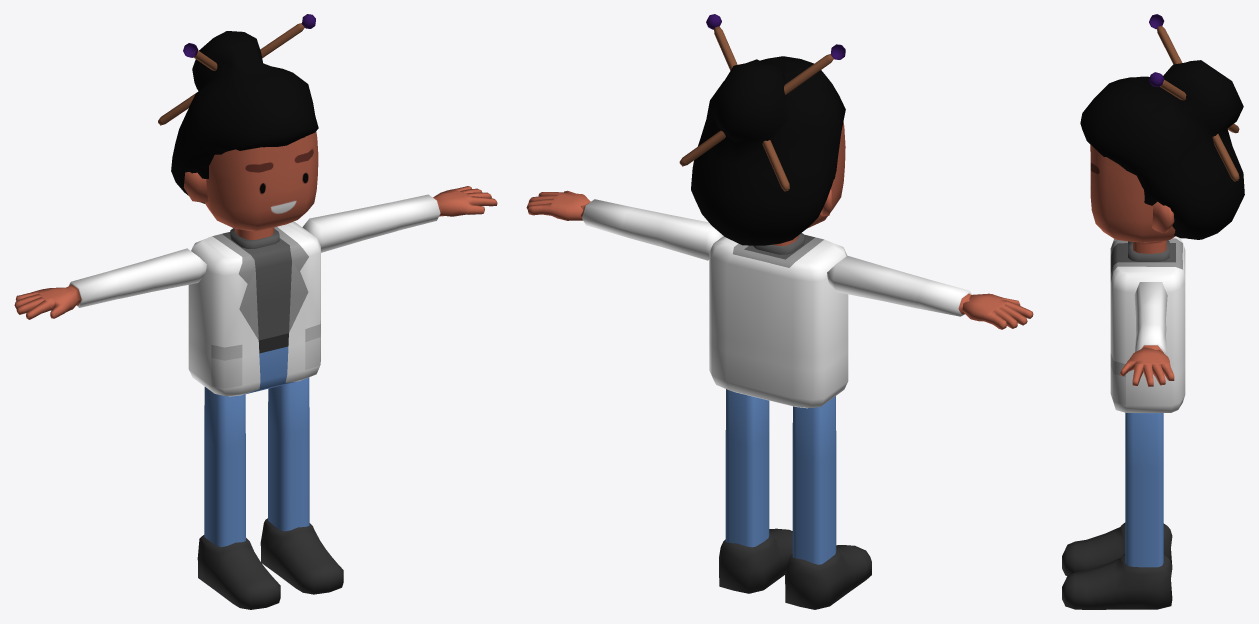
File: NPC_Black01_BlackHair03.gltf
The picture shows the model from 3 angles, left to right: view 1: azimuth 30°, elevation 25°; view 2: azimuth 150°, elevation 25°; view 3: azimuth 270°, elevation 25°; orthographic projection. The views are drawn at different scales.
Visible parts, largest first — view 1: NPC_Corpo_Black1_BlackHair.003; view 2: NPC_Corpo_Black1_BlackHair.003; view 3: NPC_Corpo_Black1_BlackHair.003.
Part boxes in pixels (x1,y1,x2,y2): NPC_Corpo_Black1_BlackHair.003: (14, 14, 497, 609); NPC_Corpo_Black1_BlackHair.003: (526, 14, 1033, 609); NPC_Corpo_Black1_BlackHair.003: (1062, 14, 1244, 609).
Size of the model in its own units: 2.31 by 2.5 by 0.7676.
1 material, 1 textured.
